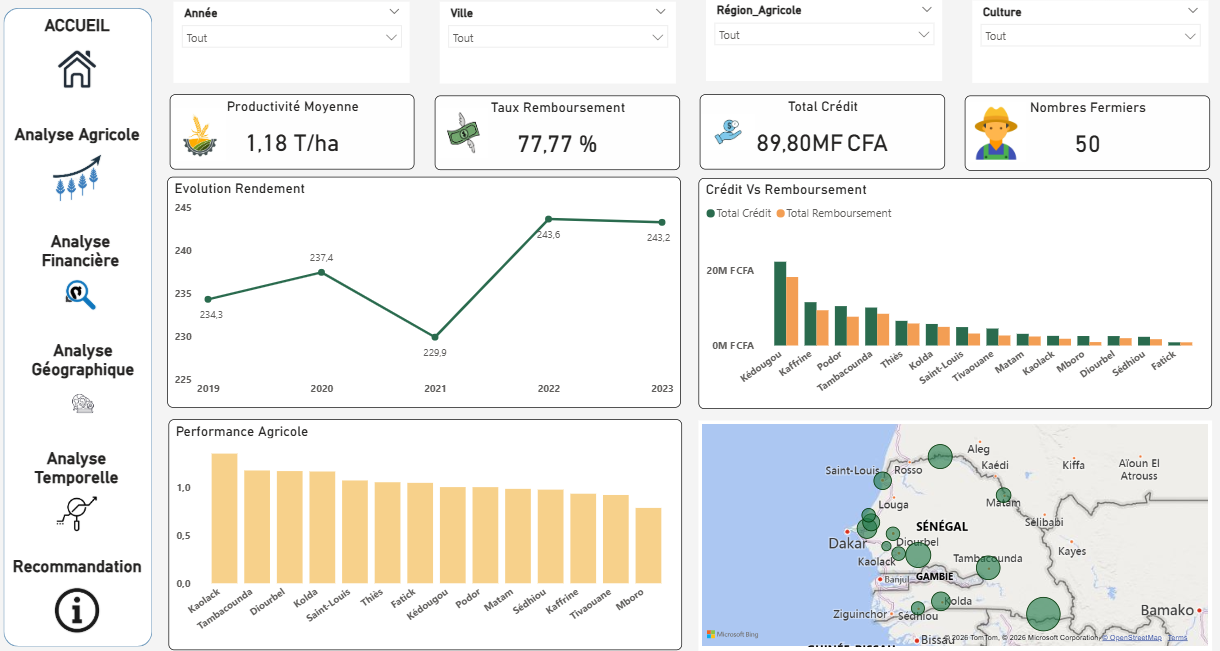

The dashboard page shown, as its layout file describes it:
{"tool":"powerbi","page":{"name":"Analyse Geographique","canvas":[1500,900],"ordinal":3},"visuals":[{"type":"shape","box":[9.2,110.1,181.9,781.1],"z":0,"group":"g6"},{"type":"card","title":"Total Crédit","fields":{"Values":["Mesure_de_Base.Total Crédit"]},"box":[860.4,215.5,300,91.7],"z":0,"group":"g3"},{"type":"card","title":"Taux Remboursement","fields":{"Values":["Table_Mesures.Taux Remboursement"]},"box":[536.2,217.8,300,91],"z":0,"group":"g1"},{"type":"pivotTable","title":"Crédit Vs Remboursement","fields":{"Rows":["DimVille.nom_ville"],"Values":["Mesure_de_Base.Rendement Total","Mesure_de_Base.Total Crédit","Mesure_de_Base.Total Remboursement","Table_Mesures.Taux Remboursement"]},"box":[859,317.9,628.2,282.8],"z":0},{"type":"image","title":"ACCUEIL","box":[19.1,119.1,161.9,103.2],"z":1000,"group":"g6"},{"type":"image","box":[540.6,219.2,60.6,88.2],"z":1000,"group":"g1"},{"type":"map","fields":{"Category":["DimVille.nom_ville"],"Size":["Mesure_de_Base.Total Crédit"]},"box":[212.7,317.5,623.8,566.7],"z":1000},{"type":"slicer","fields":{"Values":["Dates.Année"]},"box":[217.1,103.1,288.9,99.4],"z":2000},{"type":"image","title":"ANALYSE AGRICOLE","box":[19.1,251.6,161.9,103],"z":2000,"group":"g6"},{"type":"group","id":"g1","title":"Groupe 1","box":[536.2,217.8,300,91],"z":3000},{"type":"image","title":"Analyse Financière","box":[22.3,383.9,161,103],"z":3000,"group":"g6"},{"type":"group","id":"g2","title":"Groupe 2","box":[212.5,216.3,299.6,91.7],"z":4000},{"type":"card","title":"Productivité Moyenne","fields":{"Values":["Table_Mesures.Productivité"]},"box":[212.5,216.3,299.6,91.7],"z":4000,"group":"g2"},{"type":"image","title":"Analyse Géographique","box":[25.4,516.2,161,103],"z":4000,"group":"g6"},{"type":"group","id":"g3","title":"Groupe 3","box":[860.4,215.5,300,91.7],"z":5000},{"type":"card","title":"Nombres Fermiers","fields":{"Values":["Mesure_de_Base.Total Fermiers"]},"box":[1184.6,217,300,91.7],"z":5000,"group":"g4"},{"type":"image","title":"Analyse Temporelle","box":[19.1,648.5,160.3,103.2],"z":5000,"group":"g6"},{"type":"group","id":"g4","title":"Groupe 4","box":[1184.6,217,300,91.7],"z":6000},{"type":"image","title":"Recommandation","box":[19.1,781,161.9,103],"z":6000,"group":"g6"},{"type":"group","id":"g5","title":"Groupe 5","box":[382.5,7.9,811.1,63.5],"z":7000},{"type":"group","id":"g6","title":"Groupe 6","box":[9.2,110.1,181.9,781.1],"z":8000},{"type":"clusteredBarChart","title":"TOP5 Rendement","fields":{"Y":["Mesure_de_Base.Rendement Total"],"Category":["DimVille.nom_ville"]},"box":[857.1,609.5,628.6,282.5],"z":9000},{"type":"slicer","fields":{"Values":["DimVille.nom_ville"]},"box":[542.6,102.2,289,100],"z":10000},{"type":"slicer","fields":{"Values":["DimRegion.nom_region"]},"box":[868.2,99.4,289,100],"z":11000},{"type":"textbox","box":[400.6,7.9,793.3,64.2],"z":12000,"group":"g5"},{"type":"slicer","fields":{"Values":["DimCulture.nom_culture"]},"box":[1193.8,100.4,288.9,100.9],"z":12000},{"type":"image","box":[382.5,12.2,150,50],"z":13005,"group":"g5"},{"type":"image","box":[216.7,223.4,65,83.3],"z":14001,"group":"g2"},{"type":"image","box":[861.6,220,66.7,83.3],"z":14500,"group":"g3"},{"type":"image","box":[1186.6,220,73.3,83.3],"z":15502,"group":"g4"}]}

Visuals, with their boxes on the page's 1500x900 design canvas (x1, y1, x2, y2). These are canvas units, not pixel positions in the 1220x651 screenshot, which may show the page scaled, cropped or inside an application window:
shape: (left=9, top=110, right=191, bottom=891)
"Total Crédit" card: (left=860, top=216, right=1160, bottom=307)
"Taux Remboursement" card: (left=536, top=218, right=836, bottom=309)
"Crédit Vs Remboursement" pivotTable: (left=859, top=318, right=1487, bottom=601)
"ACCUEIL" image: (left=19, top=119, right=181, bottom=222)
image: (left=541, top=219, right=601, bottom=307)
map - DimVille.nom_ville x Mesure_de_Base.Total Crédit: (left=213, top=318, right=836, bottom=884)
slicer - Dates.Année: (left=217, top=103, right=506, bottom=202)
"ANALYSE AGRICOLE" image: (left=19, top=252, right=181, bottom=355)
"Groupe 1" group: (left=536, top=218, right=836, bottom=309)
"Analyse Financière" image: (left=22, top=384, right=183, bottom=487)
"Groupe 2" group: (left=212, top=216, right=512, bottom=308)
"Productivité Moyenne" card: (left=212, top=216, right=512, bottom=308)
"Analyse Géographique" image: (left=25, top=516, right=186, bottom=619)
"Groupe 3" group: (left=860, top=216, right=1160, bottom=307)
"Nombres Fermiers" card: (left=1185, top=217, right=1485, bottom=309)
"Analyse Temporelle" image: (left=19, top=648, right=179, bottom=752)
"Groupe 4" group: (left=1185, top=217, right=1485, bottom=309)
"Recommandation" image: (left=19, top=781, right=181, bottom=884)
"Groupe 5" group: (left=382, top=8, right=1194, bottom=71)
"Groupe 6" group: (left=9, top=110, right=191, bottom=891)
"TOP5 Rendement" clusteredBarChart: (left=857, top=610, right=1486, bottom=892)
slicer - DimVille.nom_ville: (left=543, top=102, right=832, bottom=202)
slicer - DimRegion.nom_region: (left=868, top=99, right=1157, bottom=199)
textbox: (left=401, top=8, right=1194, bottom=72)
slicer - DimCulture.nom_culture: (left=1194, top=100, right=1483, bottom=201)
image: (left=382, top=12, right=532, bottom=62)
image: (left=217, top=223, right=282, bottom=307)
image: (left=862, top=220, right=928, bottom=303)
image: (left=1187, top=220, right=1260, bottom=303)
